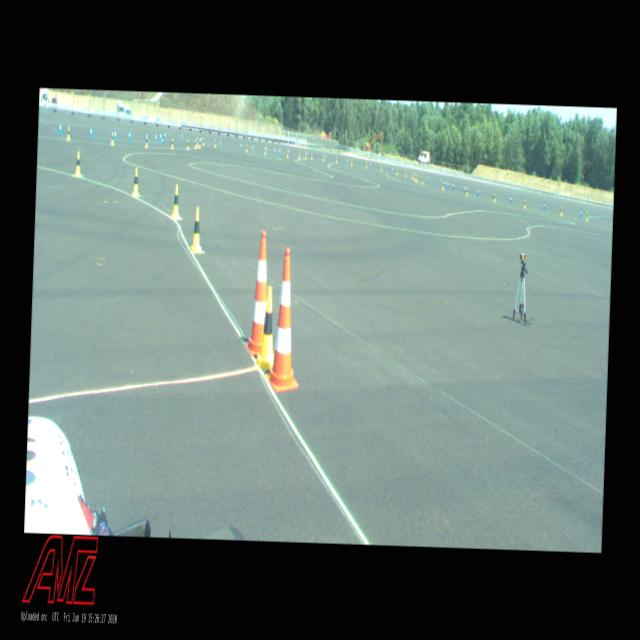blue_cone: (58, 121, 62, 135), (158, 131, 162, 142), (128, 130, 131, 142), (145, 131, 148, 142), (154, 132, 157, 142), (90, 125, 92, 138), (114, 127, 116, 140), (580, 208, 582, 218), (542, 200, 544, 210), (164, 130, 166, 140), (510, 194, 512, 203), (463, 184, 465, 193), (452, 181, 454, 190), (476, 187, 478, 196), (447, 180, 449, 189), (278, 146, 280, 154), (274, 146, 276, 154), (180, 132, 182, 140), (219, 138, 221, 146), (444, 180, 446, 188), (200, 135, 202, 143), (264, 144, 266, 152), (428, 174, 430, 181), (439, 177, 441, 184), (252, 144, 254, 151), (346, 157, 348, 164), (288, 148, 290, 155), (306, 151, 308, 158), (324, 153, 326, 160), (240, 142, 242, 148), (392, 166, 393, 173), (370, 161, 370, 168)
large_orange_cone: (263, 246, 303, 394), (244, 230, 269, 357)
yellow_cone: (254, 285, 276, 369), (189, 206, 204, 253), (170, 183, 182, 220), (130, 166, 140, 198), (74, 150, 82, 178), (66, 125, 71, 141), (110, 130, 114, 146), (170, 137, 174, 149), (144, 136, 148, 148), (522, 198, 526, 209), (186, 139, 189, 150), (194, 138, 197, 149), (198, 138, 201, 149), (213, 138, 216, 148), (245, 144, 248, 152), (560, 205, 562, 216), (493, 191, 495, 202), (586, 210, 588, 220), (466, 186, 468, 196), (298, 150, 300, 160), (442, 180, 444, 190), (322, 152, 324, 162), (196, 136, 198, 146), (396, 167, 398, 176), (416, 174, 418, 183), (202, 137, 204, 146), (380, 163, 382, 172), (264, 146, 266, 155), (404, 169, 406, 178), (411, 171, 413, 180), (310, 152, 312, 160), (420, 176, 422, 184), (304, 152, 306, 160), (350, 158, 352, 166), (286, 150, 288, 158), (414, 172, 416, 180), (335, 156, 337, 163), (365, 162, 367, 168)
